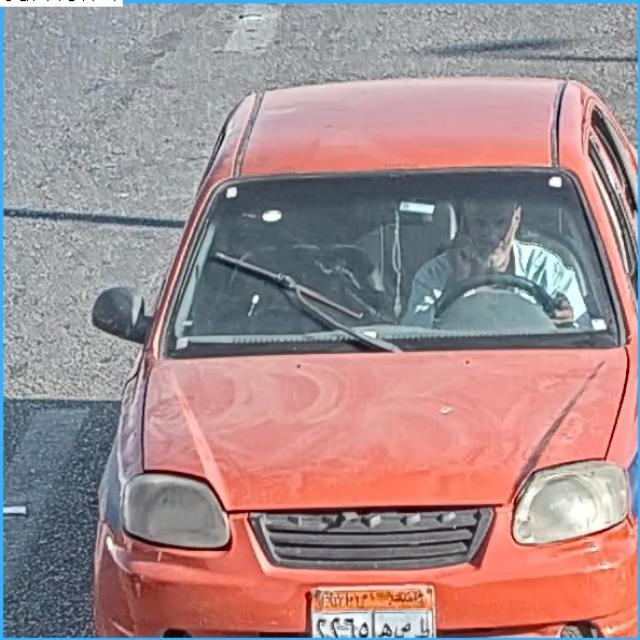windshield: (167, 190, 627, 352)
